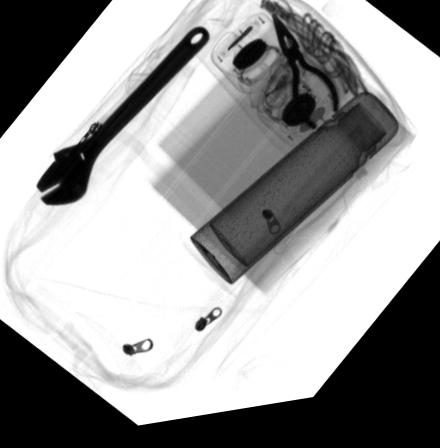Pliers: (270, 20, 338, 140)
Wrench: (34, 32, 209, 206)
